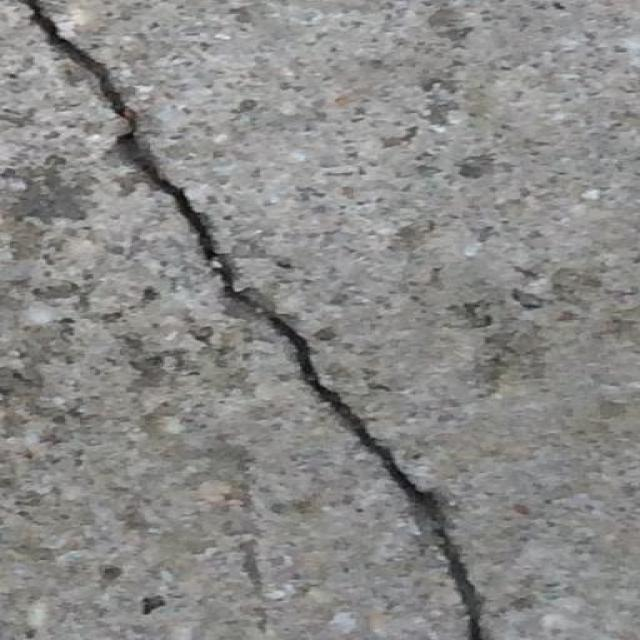Crack: (22, 0, 486, 640)
